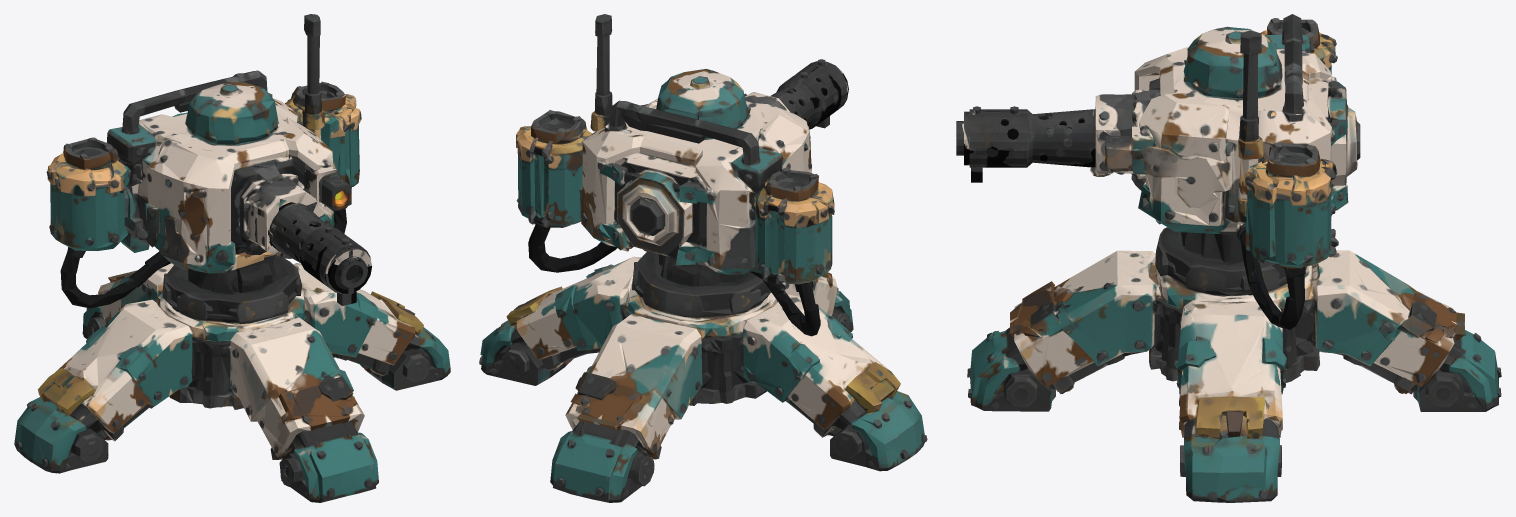
Rendered from SM_Turret.fbx.
3 renders of one model, left to right at view 1: azimuth 30°, elevation 25°; view 2: azimuth 150°, elevation 25°; view 3: azimuth 270°, elevation 25°, orthographic. The views are drawn at different scales.
Parts seen in each view (by area): view 1: SM_Turret; view 2: SM_Turret; view 3: SM_Turret.
Part boxes in pixels (bbox=[...]): SM_Turret: bbox=[14, 14, 450, 502]; SM_Turret: bbox=[479, 14, 927, 502]; SM_Turret: bbox=[956, 14, 1501, 502].
Size of the model in its own units: 1.83 by 1.56 by 1.88.
